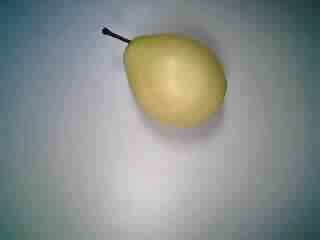pear: (91, 12, 241, 138)
